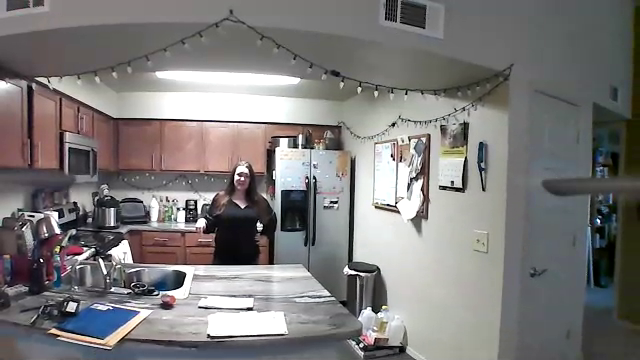down: (192, 217, 208, 244)
